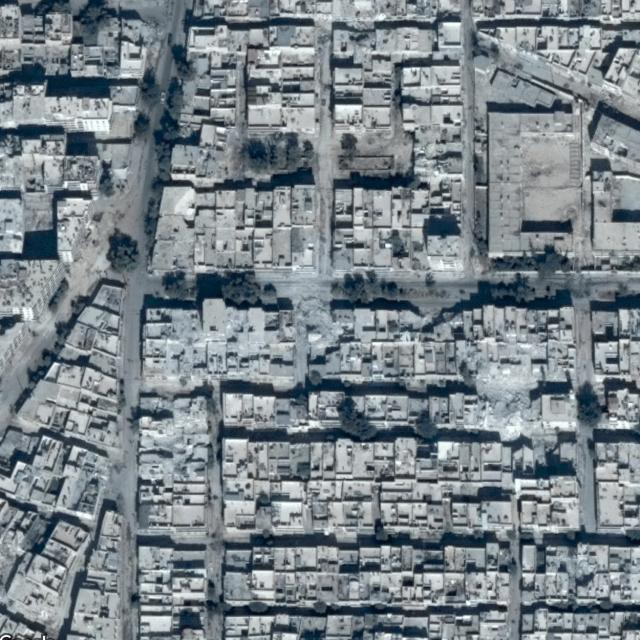damaged_building: (456, 335, 550, 444), (293, 292, 352, 363)
